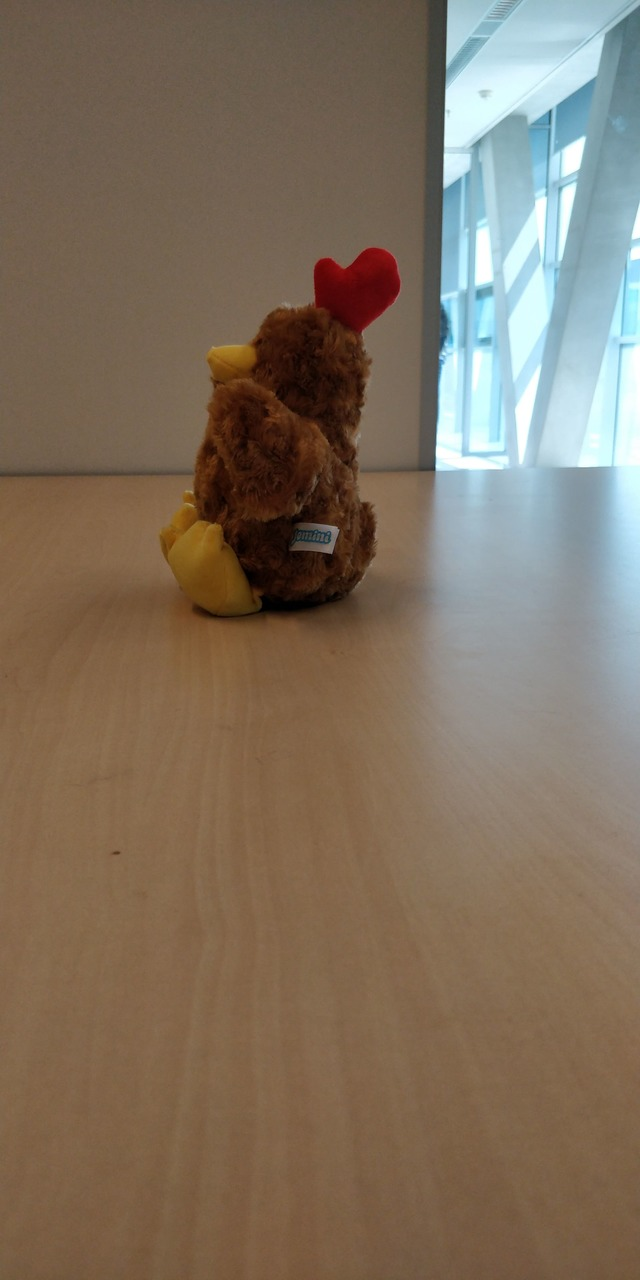fakeChicken: (162, 246, 405, 618)
